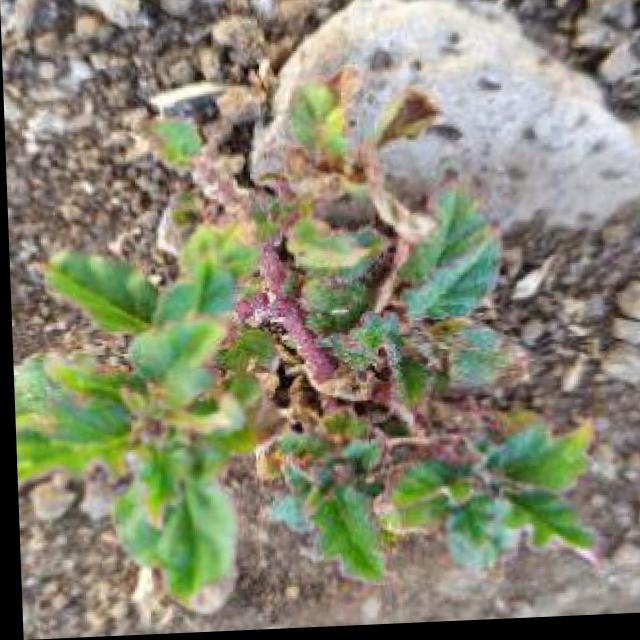weed: (1, 16, 539, 640)
